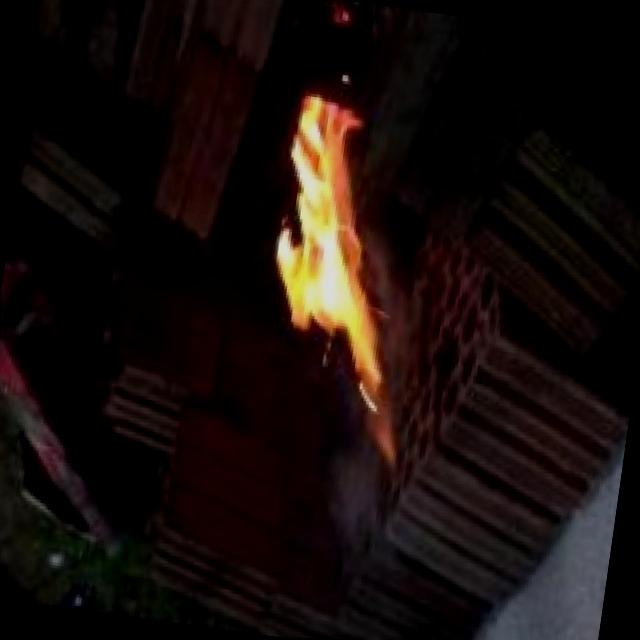fire: (196, 38, 475, 504)
